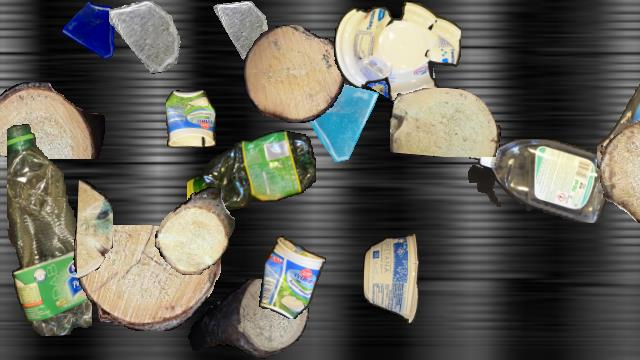glass: (344, 30, 438, 124), (298, 75, 388, 165), (109, 1, 181, 73), (61, 1, 125, 65), (213, 1, 271, 59)
plastic: (7, 123, 91, 335), (334, 1, 460, 101), (468, 139, 614, 223), (187, 126, 315, 218), (597, 57, 640, 191), (257, 236, 327, 318), (363, 234, 419, 322), (166, 90, 216, 148)
wood: (73, 225, 221, 331), (244, 25, 344, 123), (187, 279, 309, 359), (0, 82, 104, 158), (390, 88, 500, 156), (155, 187, 235, 275), (600, 119, 640, 225), (77, 180, 113, 278)
